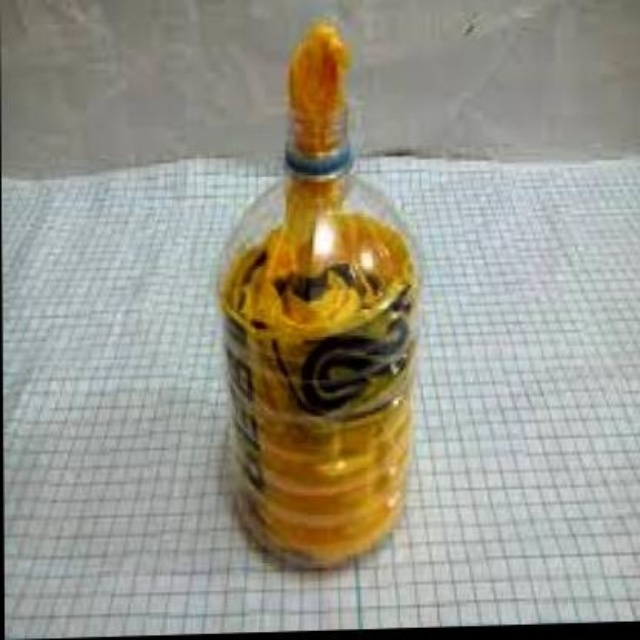trash: (220, 18, 417, 566)
